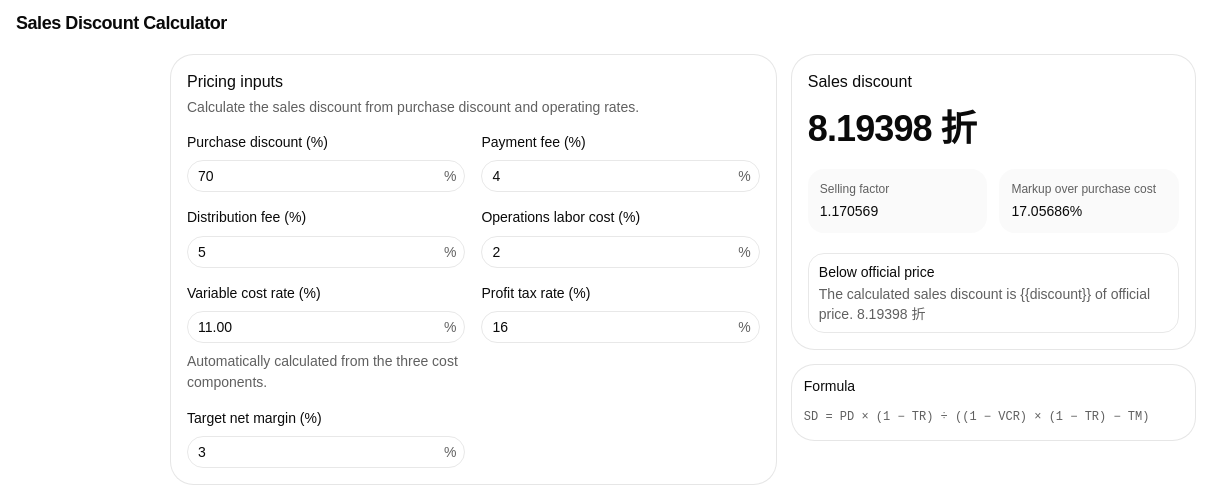
Test case: sales discount calculator › updates the result from edited percentage inputs
This screenshot has width=1213, height=502.
Replace the text in the number field labelled "Purchase discount (%)" with "80" at (316, 176), box [188, 160, 444, 192]
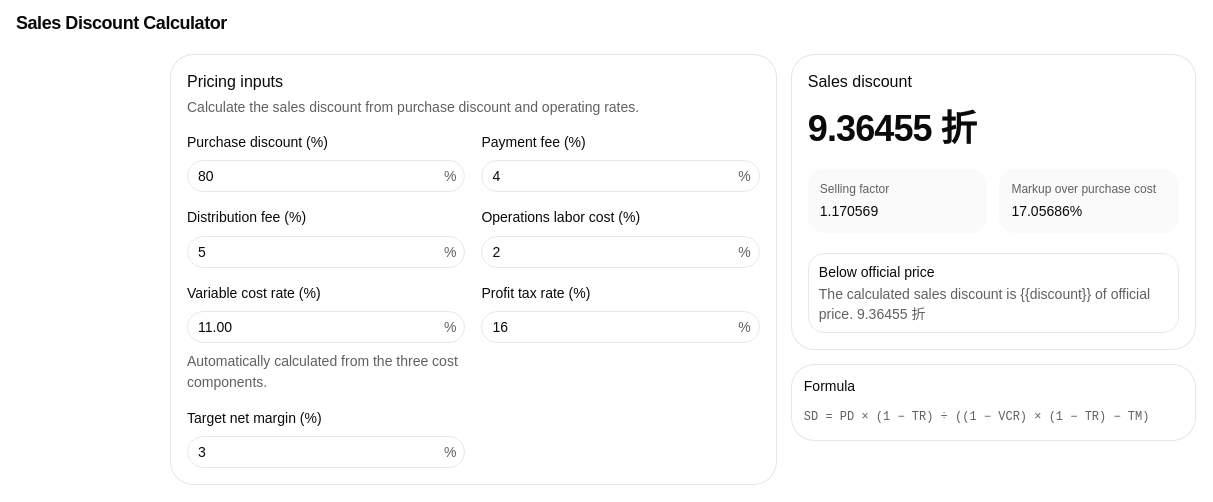
Replace the text in the number field labelled "Payment fee (%)" with "0" at (610, 176), box [482, 160, 738, 192]
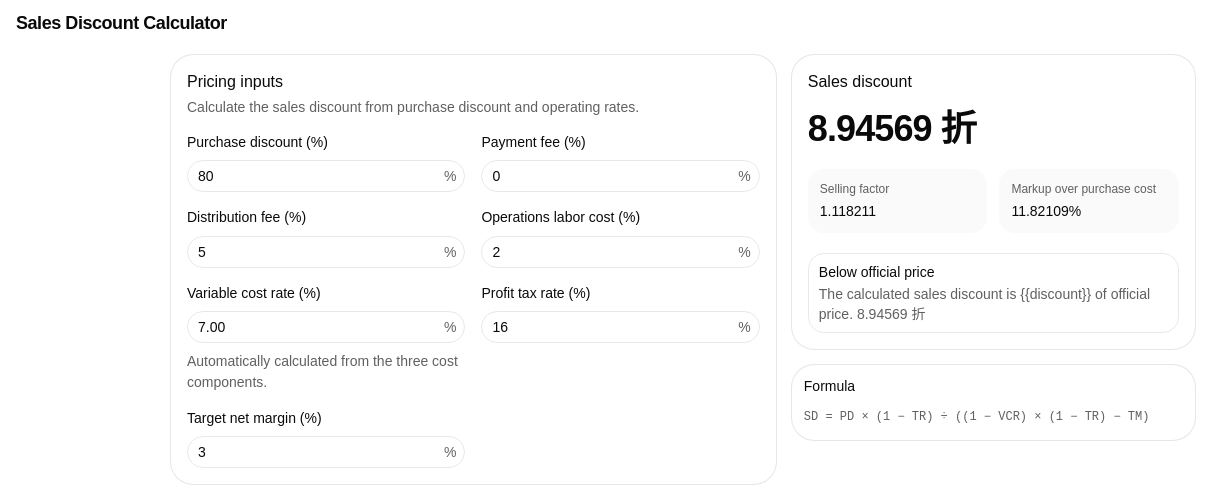
Replace the text in the number field labelled "Distribution fee (%)" with "0" at (316, 252), box [188, 236, 444, 268]
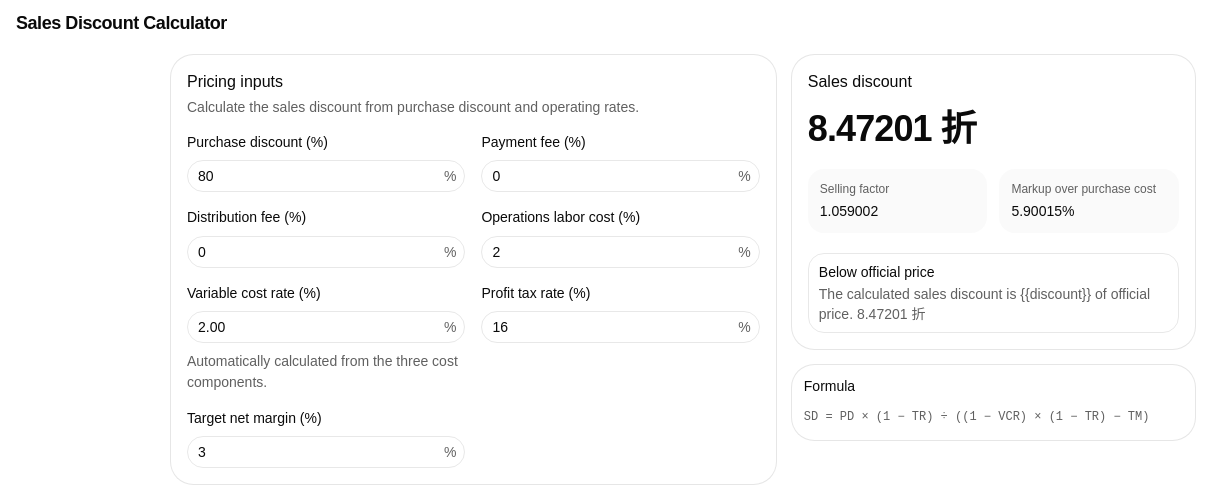
Replace the text in the number field labelled "Operations labor cost (%)" with "0" at (610, 252), box [482, 236, 738, 268]
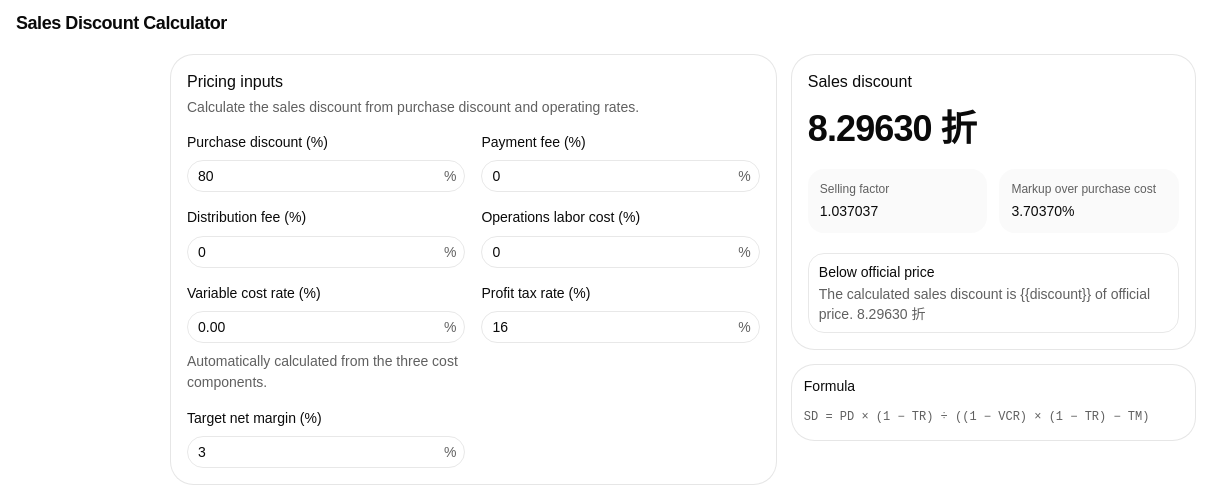
Replace the text in the number field labelled "Profit tax rate (%)" with "0" at (610, 327), box [482, 311, 738, 343]
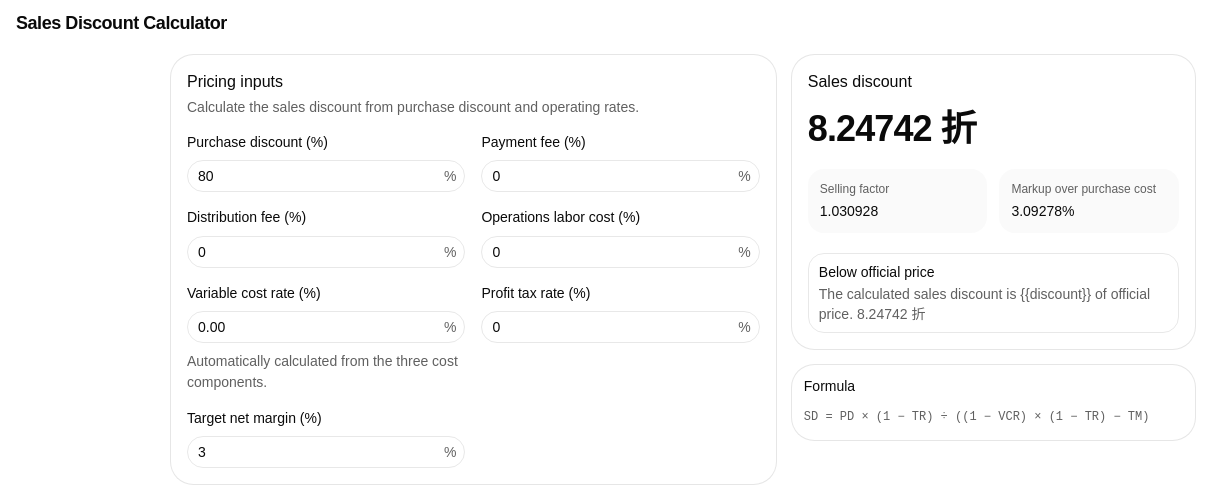
Replace the text in the number field labelled "Target net margin (%)" with "20" at (316, 452), box [188, 436, 444, 468]
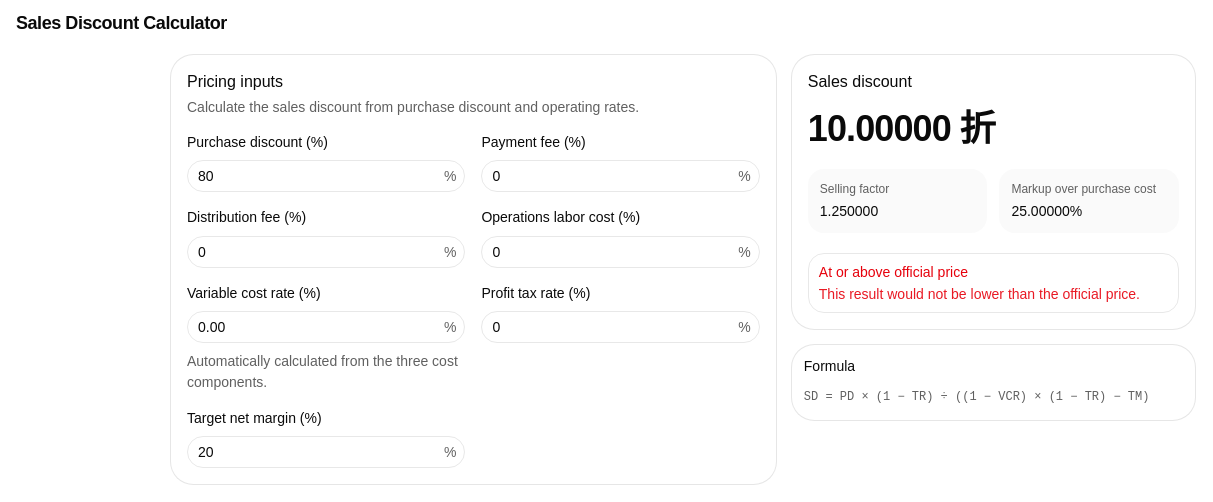
Now the field labelled "Variable cost rate (%)" holds "0.00", box [188, 311, 444, 343]
Now the text named "Sales discount" shows "10.00000", box [808, 108, 995, 149]
Now the text "At or above official price" is shown, box [819, 264, 968, 280]
